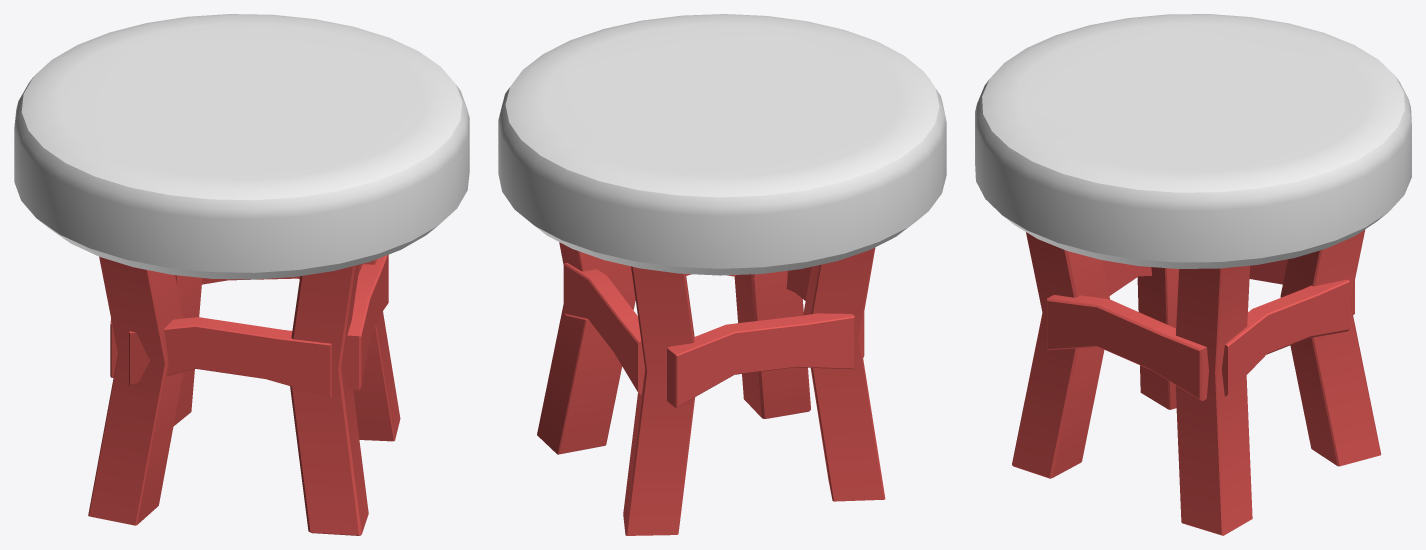
File: Table_02.fbx
3 views of the same model, side by side, from view 1: azimuth 30°, elevation 25°; view 2: azimuth 150°, elevation 25°; view 3: azimuth 270°, elevation 25° (orthographic). The views are drawn at different scales.
Parts seen in each view (by area): view 1: Cylinder.050; view 2: Cylinder.050; view 3: Cylinder.050.
Part boxes in pixels (x1,y1,x2,y2): Cylinder.050: (14, 14, 469, 535); Cylinder.050: (498, 14, 946, 535); Cylinder.050: (975, 14, 1411, 535).
Bounding box in the file's own units: 94.13 × 84.79 × 94.13.
